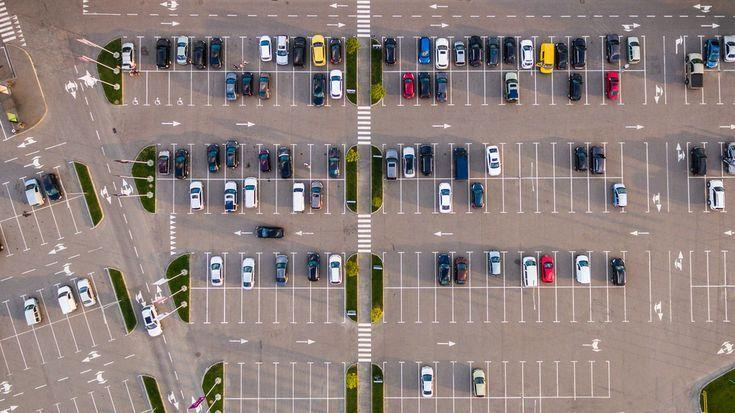car: (37, 162, 73, 210), (21, 284, 54, 333), (54, 274, 87, 322), (19, 168, 53, 214), (72, 269, 103, 315), (620, 33, 647, 72), (706, 175, 730, 217), (604, 250, 629, 288), (570, 248, 593, 289), (685, 139, 708, 179), (119, 35, 142, 74), (380, 35, 403, 73), (222, 175, 243, 216), (206, 250, 228, 289), (485, 249, 507, 288), (519, 250, 541, 289), (700, 34, 722, 73), (469, 359, 490, 399), (604, 175, 625, 215), (433, 35, 455, 73), (600, 34, 622, 72), (601, 67, 623, 105), (483, 142, 505, 180), (173, 33, 194, 72), (206, 34, 227, 73), (207, 142, 228, 181), (257, 142, 278, 181), (309, 250, 330, 289), (550, 34, 571, 73), (684, 67, 705, 106), (567, 68, 589, 105), (240, 249, 260, 289), (451, 250, 471, 290), (569, 140, 589, 180), (274, 250, 295, 288), (325, 250, 346, 288), (448, 34, 469, 72), (533, 34, 554, 72), (171, 142, 193, 178), (380, 142, 402, 178), (567, 35, 589, 71), (292, 34, 312, 73), (325, 142, 345, 181), (517, 34, 537, 73), (537, 250, 557, 289), (275, 35, 295, 73), (415, 34, 435, 72), (433, 68, 453, 106), (275, 142, 295, 180), (449, 142, 469, 180), (467, 175, 487, 213), (257, 70, 278, 106), (415, 69, 436, 105), (434, 250, 455, 286), (156, 142, 175, 181), (156, 35, 176, 72), (190, 35, 210, 72), (242, 70, 262, 107), (240, 177, 260, 214), (292, 179, 312, 216), (309, 177, 329, 214), (400, 142, 420, 179), (500, 36, 520, 73), (327, 69, 346, 107), (587, 140, 606, 178), (399, 69, 419, 105), (189, 177, 209, 213), (416, 144, 437, 178), (309, 69, 328, 106), (418, 361, 437, 398), (467, 34, 486, 71), (501, 69, 520, 106), (310, 34, 328, 73), (224, 71, 244, 106), (434, 179, 454, 214), (327, 35, 346, 71), (225, 142, 243, 180), (484, 35, 503, 71), (684, 35, 703, 71), (259, 35, 276, 72), (720, 34, 735, 71), (721, 141, 735, 178)
